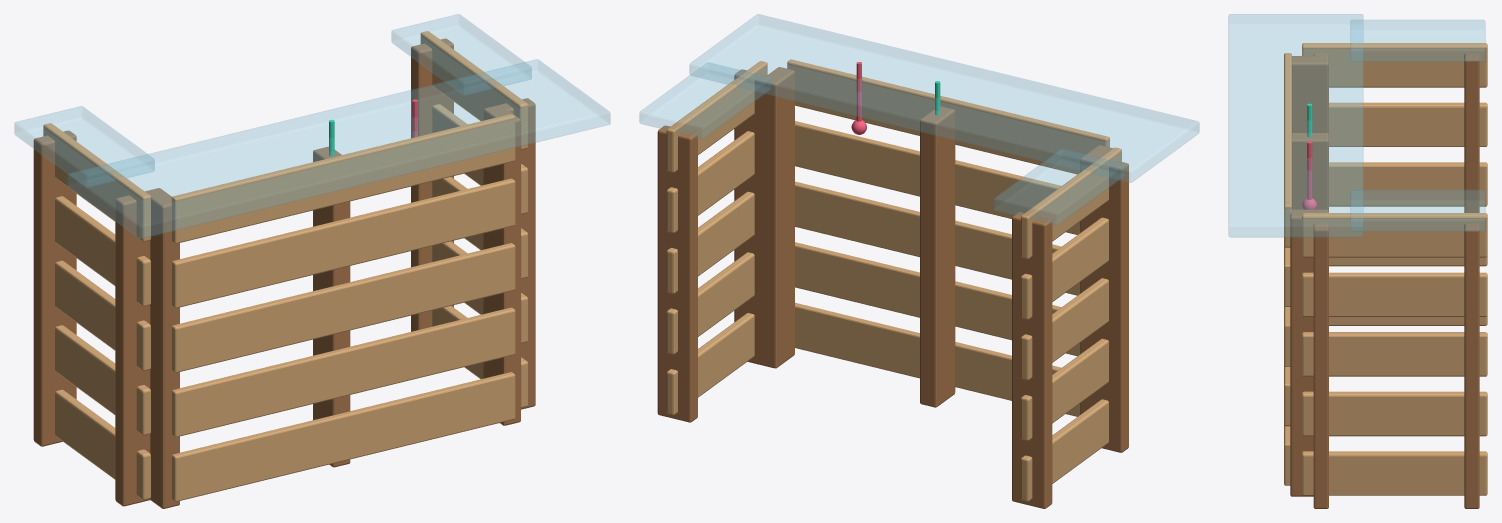
Rendered from bar.glb.
3 views of the same model, side by side, from view 1: azimuth 30°, elevation 25°; view 2: azimuth 150°, elevation 25°; view 3: azimuth 270°, elevation 25° (orthographic). The views are drawn at different scales.
Visible parts, largest first — view 1: Transparent shelf, Front slat.004, Front slat, Front slat.001, Front slat.003, Front slat.002, Wing stringer.001, Wing stringer, Front stringer, Wing top, Wing top.001, Wing slat.004 (+13 smaller); view 2: Transparent shelf, Front slat.004, Front stringer.001, Front stringer.002, Front slat.003, Wing stringer.003, Wing stringer.001, Front slat, Front slat.002, Front slat.001, Wing stringer, Wing top.001 (+13 smaller); view 3: Transparent shelf, Wing slat.009, Wing slat.006, Wing slat.005, Wing slat.007, Wing slat.008, Wing slat.004, Wing slat.002, Wing slat.003, Wing top, Wing top.001, Wing stringer.002 (+13 smaller).
Part boxes in pixels (x1,y1,x2,y2): Transparent shelf: (68,59,610,238); Front slat.004: (171,114,515,243); Front slat: (172,372,515,501); Front slat.001: (172,307,515,437); Front slat.003: (172,178,515,308); Front slat.002: (172,243,515,372); Wing stringer.001: (33,130,76,446); Wing stringer: (115,191,155,506); Front stringer: (145,188,179,508); Wing top: (14,106,154,187); Wing top.001: (391,14,531,95); Wing slat.004: (43,123,150,241); Transparent shelf: (689,14,1199,182); Front slat.004: (787,59,1109,174); Front stringer.001: (920,106,955,407); Front stringer.002: (761,67,794,368); Front slat.003: (795,121,1080,234); Wing stringer.003: (657,125,697,422); Wing stringer.001: (1012,212,1052,508); Front slat: (795,302,1080,416); Front slat.002: (795,181,1080,295); Front slat.001: (795,242,1080,356); Wing stringer: (1089,157,1128,452); Wing top.001: (639,62,770,138); Transparent shelf: (1228,14,1363,237); Wing slat.009: (1302,213,1487,257); Wing slat.006: (1302,391,1487,436); Wing slat.005: (1302,451,1487,495); Wing slat.007: (1302,332,1487,376); Wing slat.008: (1302,272,1487,316); Wing slat.004: (1302,43,1487,87); Wing slat.002: (1329,162,1487,206); Wing slat.003: (1329,102,1487,146); Wing top: (1350,20,1485,61); Wing top.001: (1350,190,1485,231); Wing stringer.002: (1313,223,1328,508).
Bounding box in the file's own units: 6.5 × 4.45 × 3.35.
